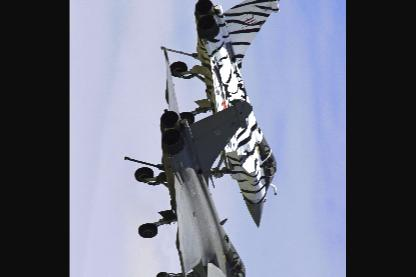RQ4: (125, 48, 254, 276), (162, 0, 286, 228)
